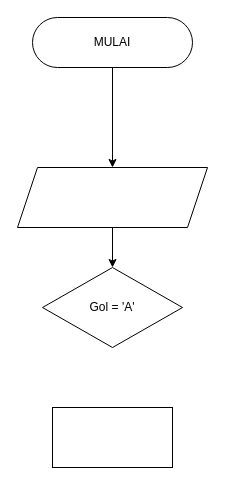
Image size: 225x485. Some labels were removed from this diagram. Each missing label, with the centre of its shape:
"READ Nama, Gol" belongs at (112,197).
"UpahPerJam =" belongs at (112,437).
